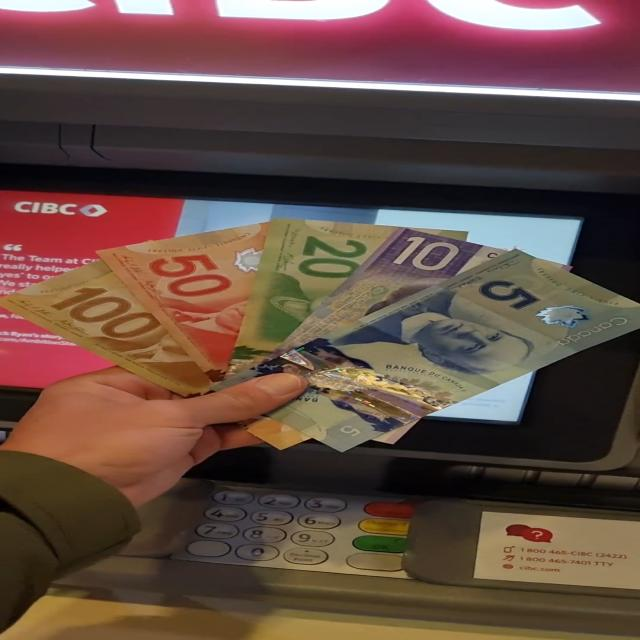10 cad: (270, 229, 502, 359)
100 cad: (5, 257, 224, 396)
20 cad: (237, 219, 393, 377)
5 cad: (276, 250, 640, 430)
50 cad: (97, 222, 261, 386)
